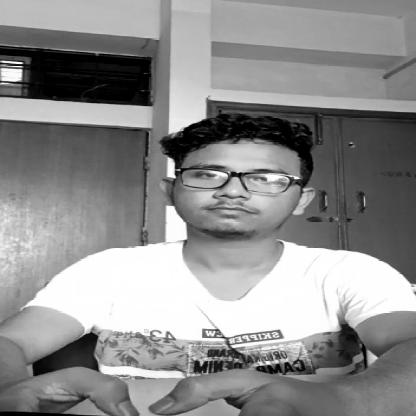Normal: (139, 124, 301, 238)
